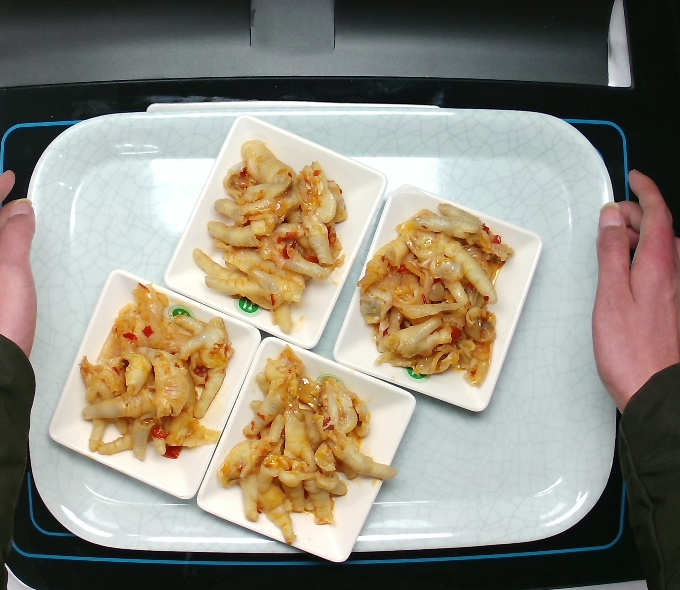wcq-LuJiZhua: (219, 332, 400, 547), (193, 115, 359, 338), (349, 185, 519, 391), (70, 259, 237, 468)
